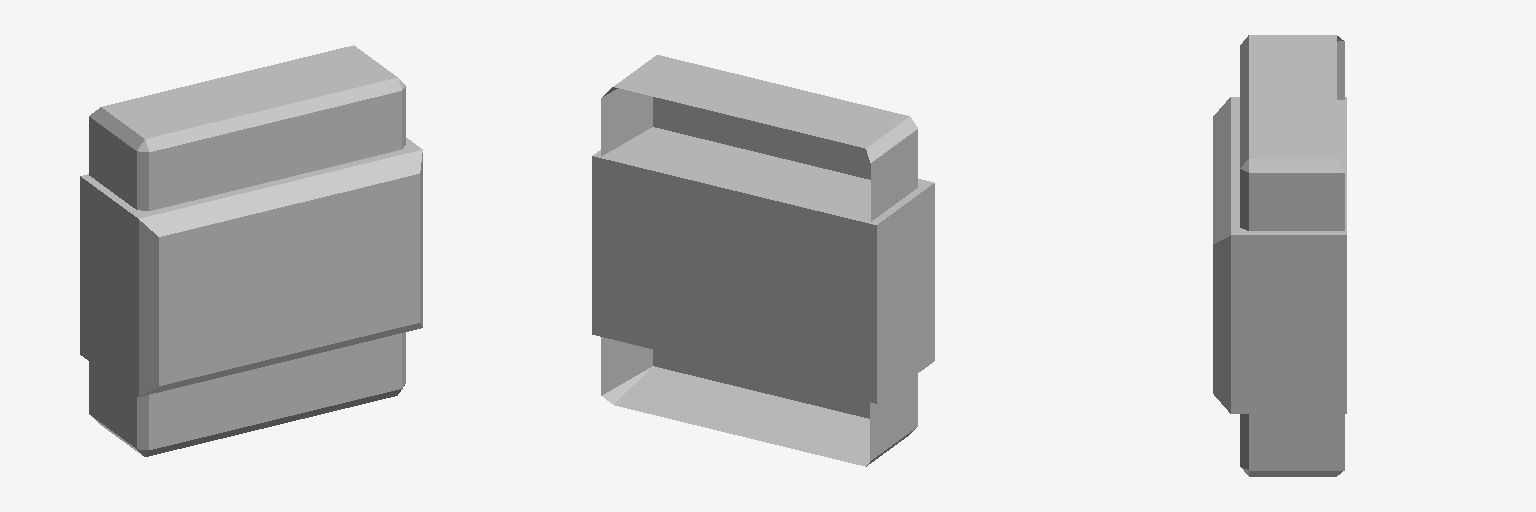
File: drone2base.obj
3 renders of one model, left to right at view 1: azimuth 30°, elevation 25°; view 2: azimuth 150°, elevation 25°; view 3: azimuth 270°, elevation 25°, orthographic.
Parts seen in each view (by area): view 1: Object.1, Object.2, Object.3; view 2: Object.1, Object.2, Object.3; view 3: Object.1, Object.2, Object.3.
Boxes of the visible parts, x1=… form: Object.1: x1=80, y1=138, x2=422, y2=396; Object.2: x1=89, y1=45, x2=405, y2=210; Object.3: x1=89, y1=332, x2=405, y2=456; Object.1: x1=592, y1=127, x2=934, y2=403; Object.2: x1=601, y1=55, x2=917, y2=221; Object.3: x1=601, y1=337, x2=917, y2=466; Object.1: x1=1213, y1=97, x2=1346, y2=413; Object.2: x1=1240, y1=35, x2=1344, y2=230; Object.3: x1=1240, y1=414, x2=1344, y2=476.
Size of the model in its own units: 61.13 by 65.38 by 25.04.